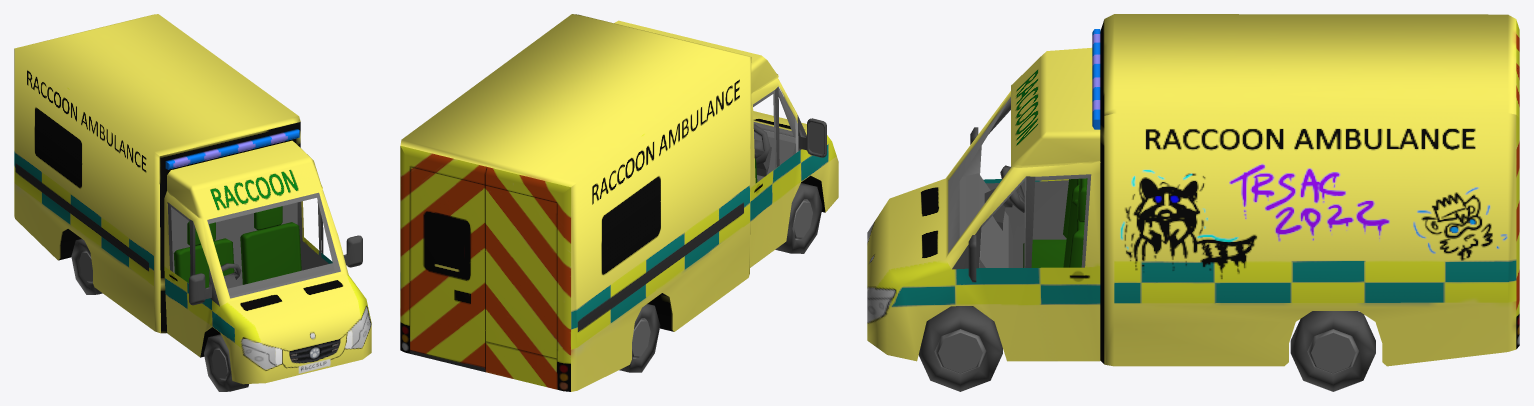
Rendered from ambulance_3.fbx.
The picture shows the model from 3 angles, left to right: view 1: azimuth 30°, elevation 25°; view 2: azimuth 150°, elevation 25°; view 3: azimuth 270°, elevation 25°; orthographic projection. The views are drawn at different scales.
Visible parts, largest first — view 1: ambulance; view 2: ambulance; view 3: ambulance.
Part boxes in pixels (bbox=[...]): ambulance: bbox=[14, 14, 371, 391]; ambulance: bbox=[400, 14, 838, 391]; ambulance: bbox=[867, 14, 1519, 391].
Size of the model in its own units: 2.99 by 3.38 by 7.
5 materials, 1 textured.
